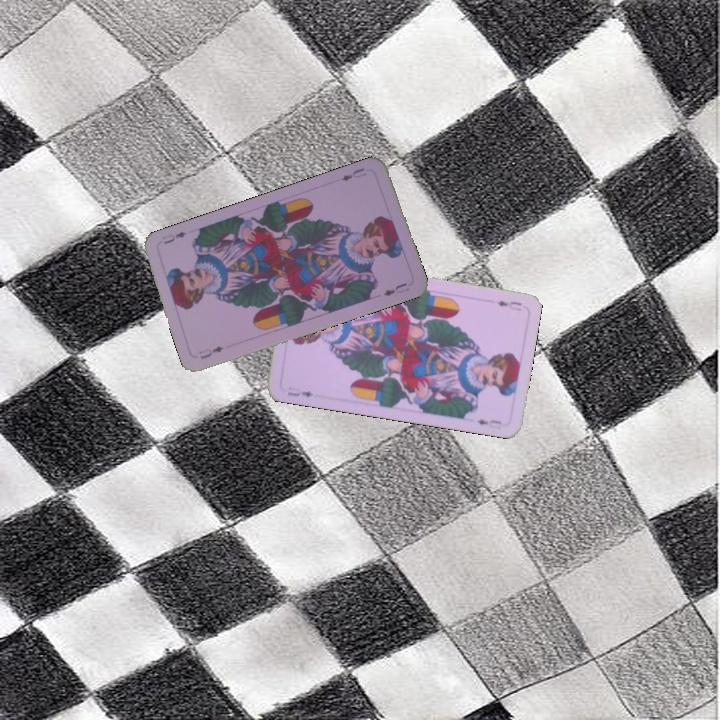EU: (337, 164, 368, 184), (283, 382, 316, 400), (195, 342, 226, 361), (493, 296, 524, 314)
